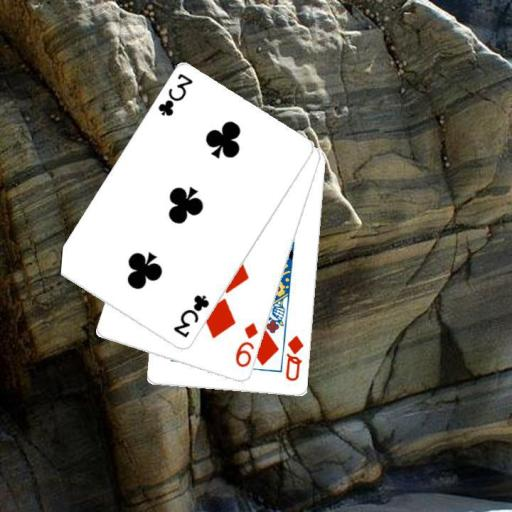3C: (170, 291, 211, 340), (154, 70, 195, 119)
9D: (232, 320, 259, 370)
QD: (282, 332, 306, 383)
